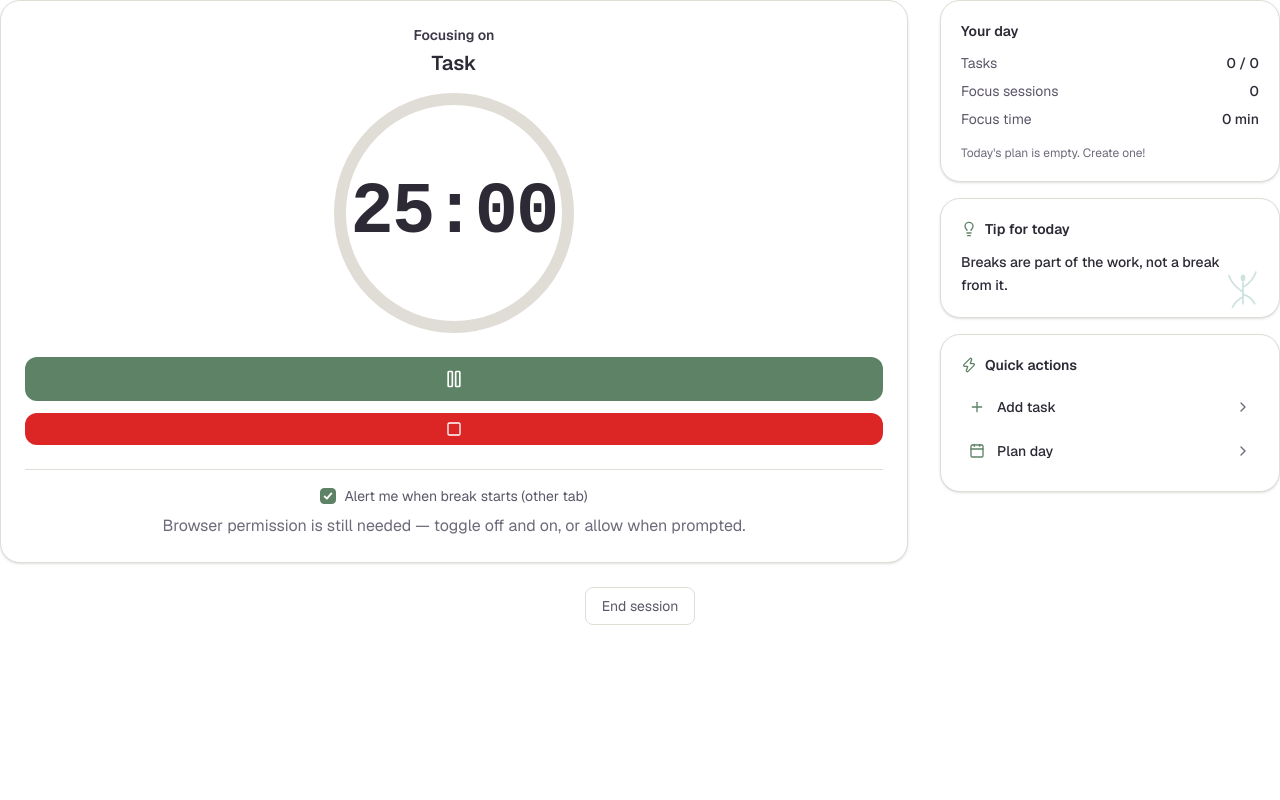
Scenario: PomodoroDashboardBody end session while running › opens confirm overlay on end session click when running
Click the button with test id "end-session-btn".
click(640, 606)  # box [585,587,695,625]
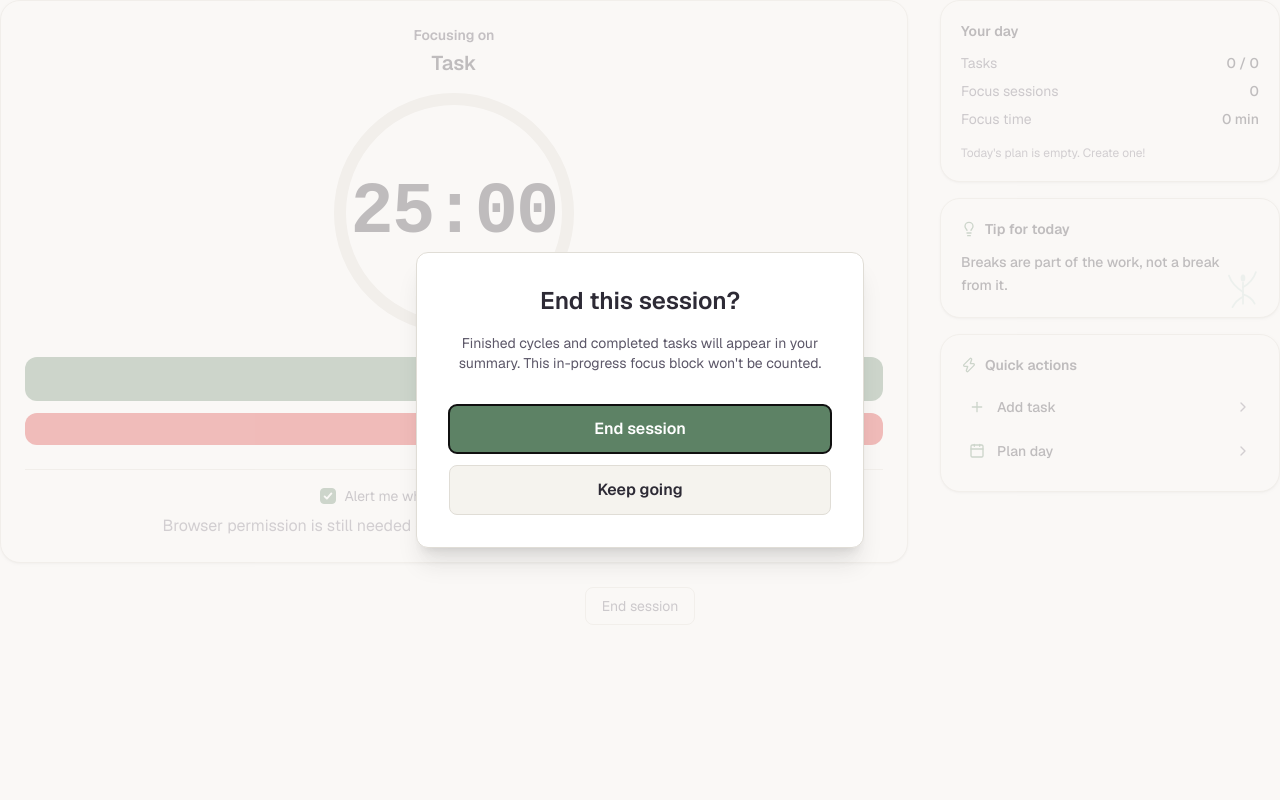
Check: the dialog with test id "end-session-confirm-overlay" is shown
